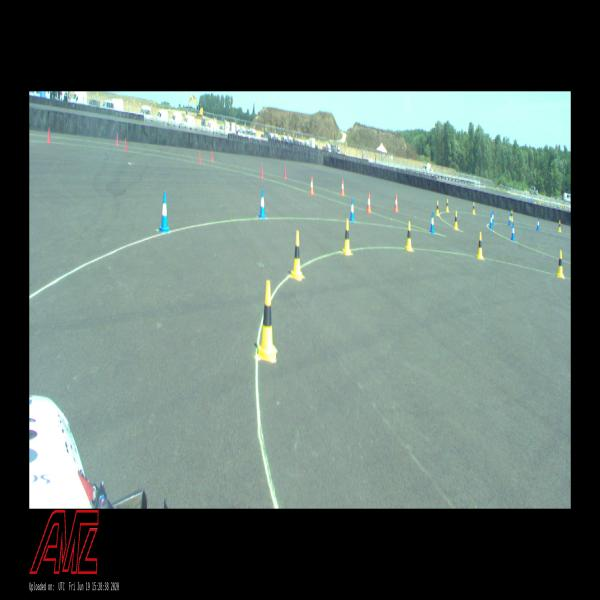blue_cone: (158, 191, 170, 232), (258, 188, 265, 219), (510, 222, 516, 241), (350, 198, 354, 222), (430, 212, 434, 234), (489, 213, 493, 230), (536, 218, 540, 231), (491, 210, 494, 226), (508, 212, 511, 226)
orange_cone: (366, 193, 372, 213), (340, 179, 345, 196), (310, 177, 314, 195), (394, 194, 398, 212)
yellow_cone: (257, 280, 276, 361), (290, 230, 303, 281), (342, 219, 352, 255), (405, 221, 414, 251), (477, 232, 484, 259), (557, 251, 564, 277), (453, 210, 458, 229), (436, 200, 440, 216), (446, 199, 450, 212), (472, 202, 476, 215), (558, 220, 562, 232), (510, 209, 514, 221)
